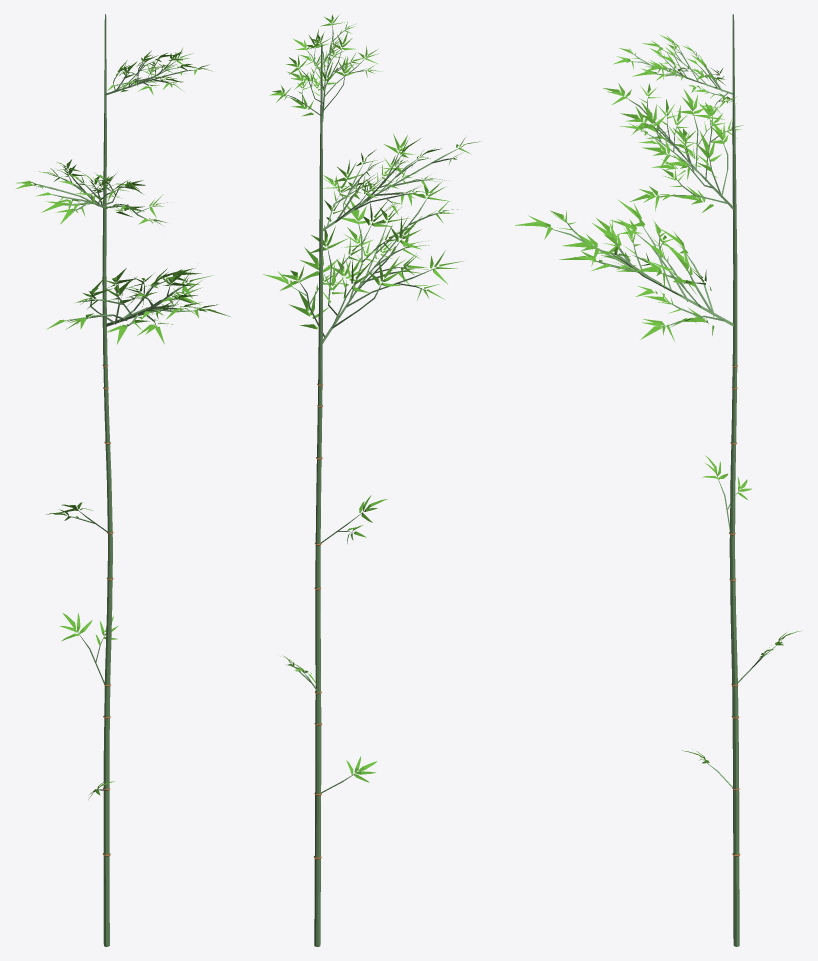
Rendered from bamboo_tree.glb.
The picture shows the model from 3 angles, left to right: view 1: azimuth 30°, elevation 25°; view 2: azimuth 150°, elevation 25°; view 3: azimuth 270°, elevation 25°; orthographic projection. The views are drawn at different scales.
Parts seen in each view (by area): view 1: bamboo_stalk, bamboo_leafs; view 2: bamboo_leafs, bamboo_stalk; view 3: bamboo_leafs, bamboo_stalk.
Part boxes in pixels (x1,y1,x2,y2): bamboo_stalk: (32,14,202,946); bamboo_leafs: (15,48,230,799); bamboo_leafs: (263,14,481,782); bamboo_stalk: (284,24,460,946); bamboo_leafs: (515,34,802,763); bamboo_stalk: (544,14,781,946).
Bounding box in the file's own units: 4.7 × 21.69 × 6.13.
